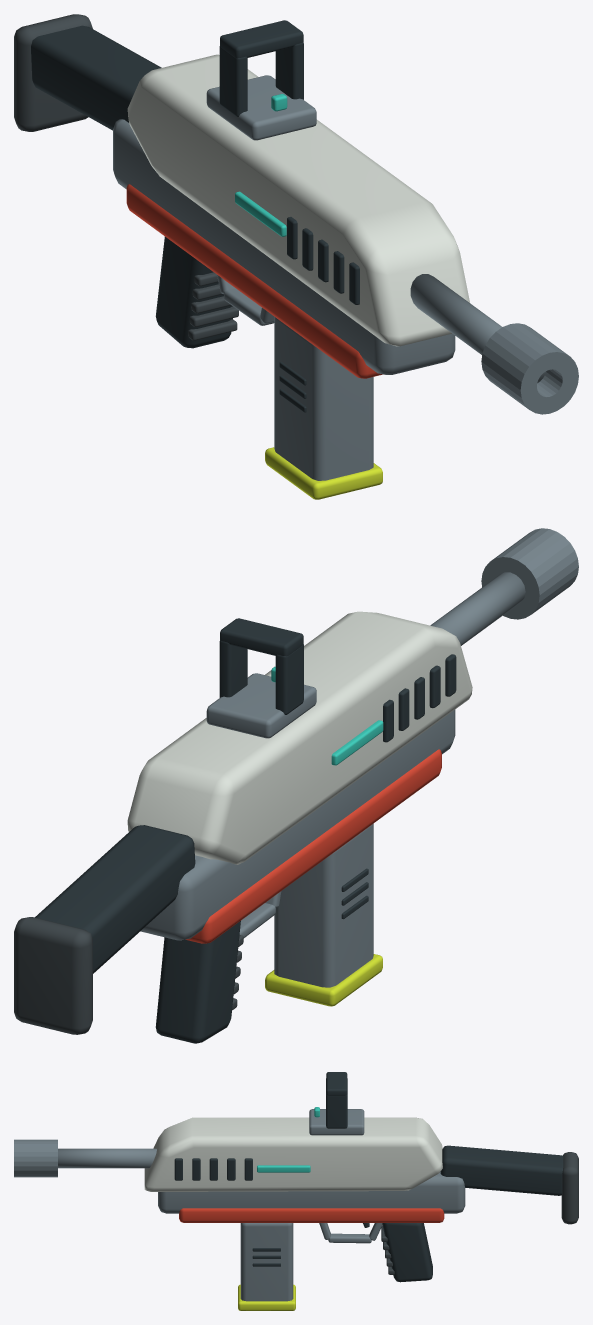
Rendered from arc_carbine.glb.
3 renders of one model, top to bottom at view 1: azimuth 30°, elevation 25°; view 2: azimuth 150°, elevation 25°; view 3: azimuth 270°, elevation 25°, orthographic. The views are drawn at different scales.
Parts seen in each view (by area): view 1: Receiver, Magazine; view 2: Receiver, Magazine; view 3: Receiver, Magazine.
Part boxes in pixels (x1,y1,x2,y2): Receiver: [14, 14, 578, 414]; Magazine: [265, 317, 382, 499]; Receiver: [14, 528, 578, 1043]; Magazine: [265, 823, 382, 1006]; Receiver: [14, 1072, 578, 1282]; Magazine: [238, 1223, 295, 1310].
Size of the model in its own units: 0.095 by 0.3505 by 0.8085.
